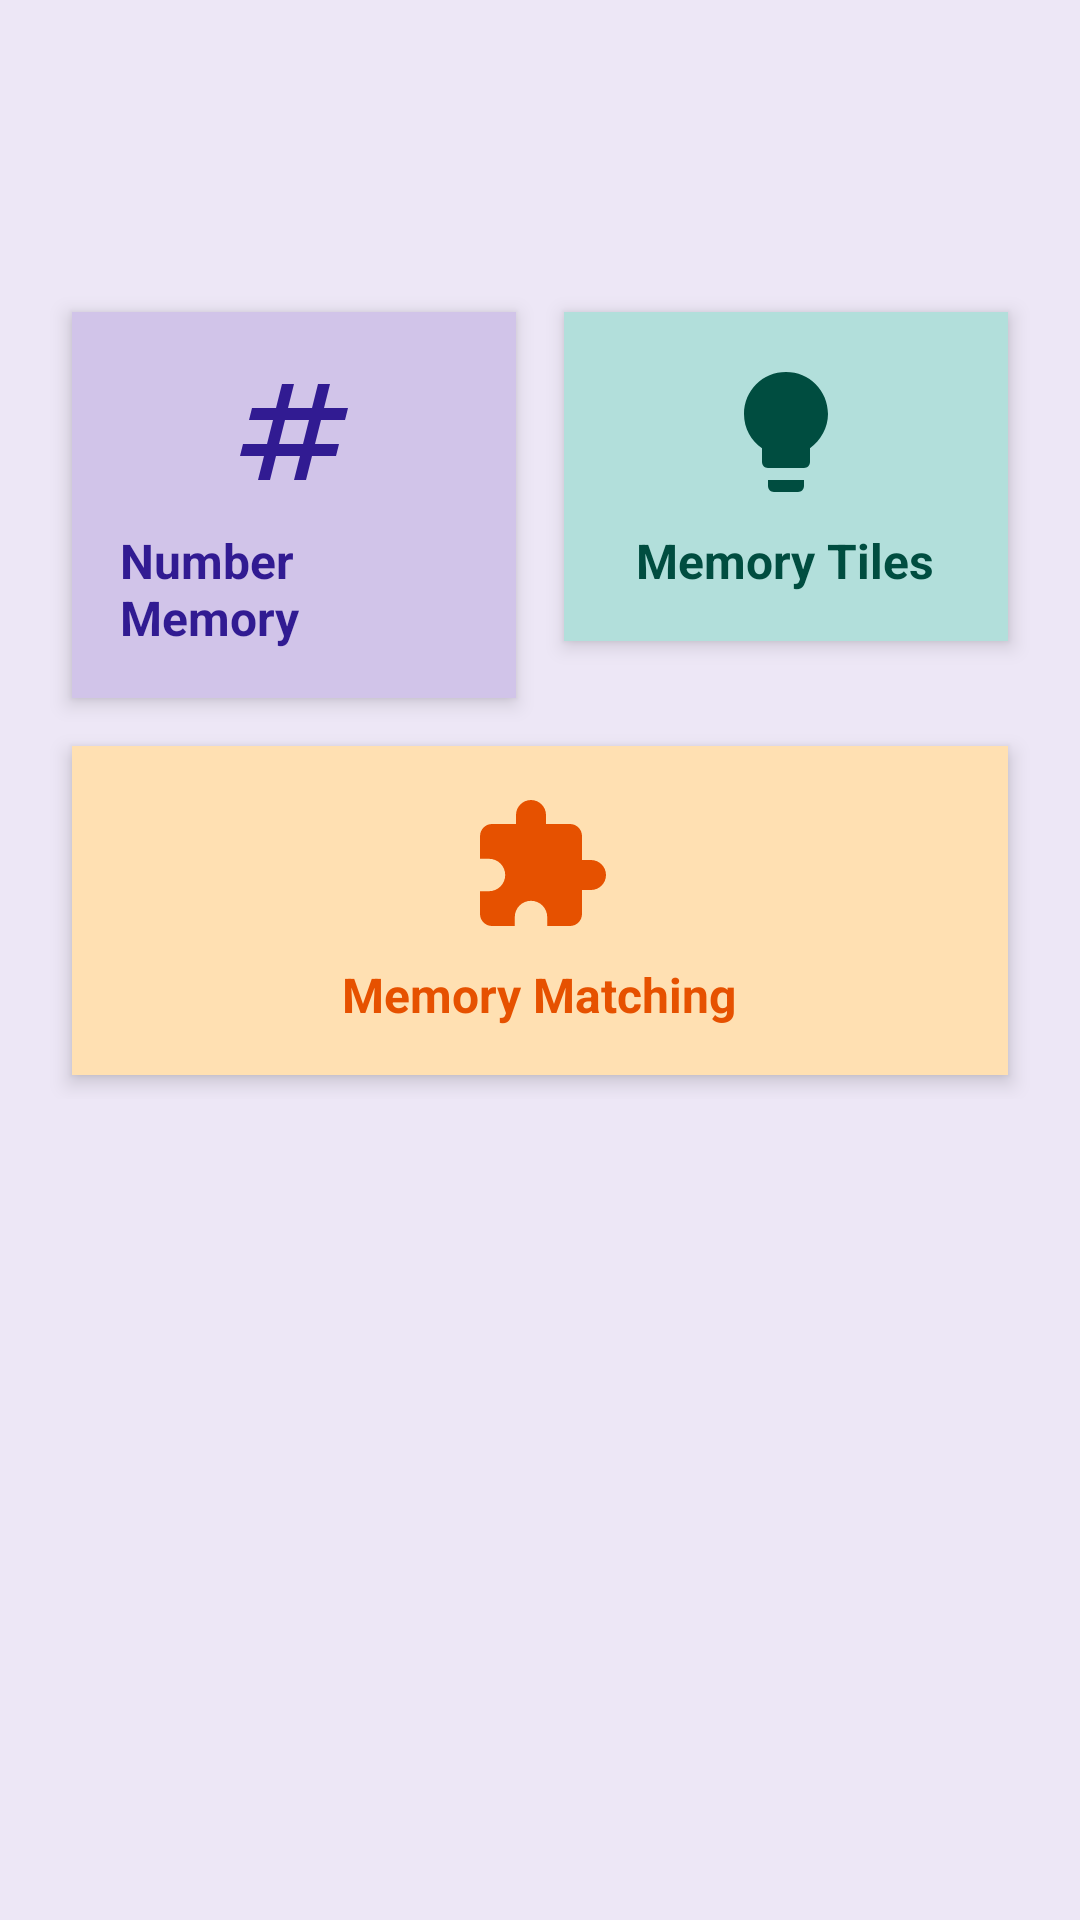

Named icons in this screenshot (1080 x 1920) and their centers, (x,y):
extension: (543,863)
lightbulb: (786,432)
numbers: (294,432)
